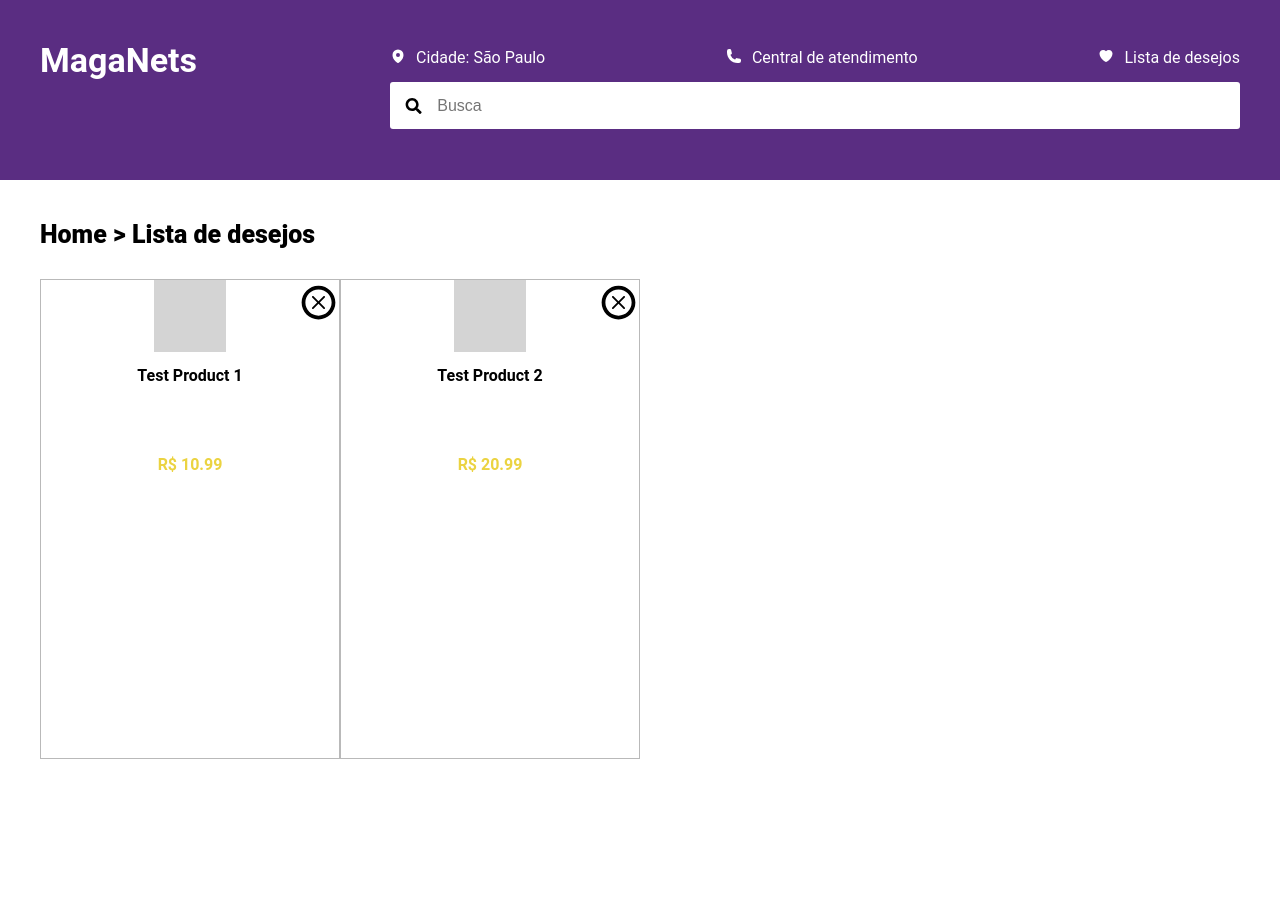
Test: WishlistPage › removes an item from the wishlist when delete button is clicked
Click the 1st icon with test id "delete-button" at coordinates (318, 302), box 296,280 -> 341,325
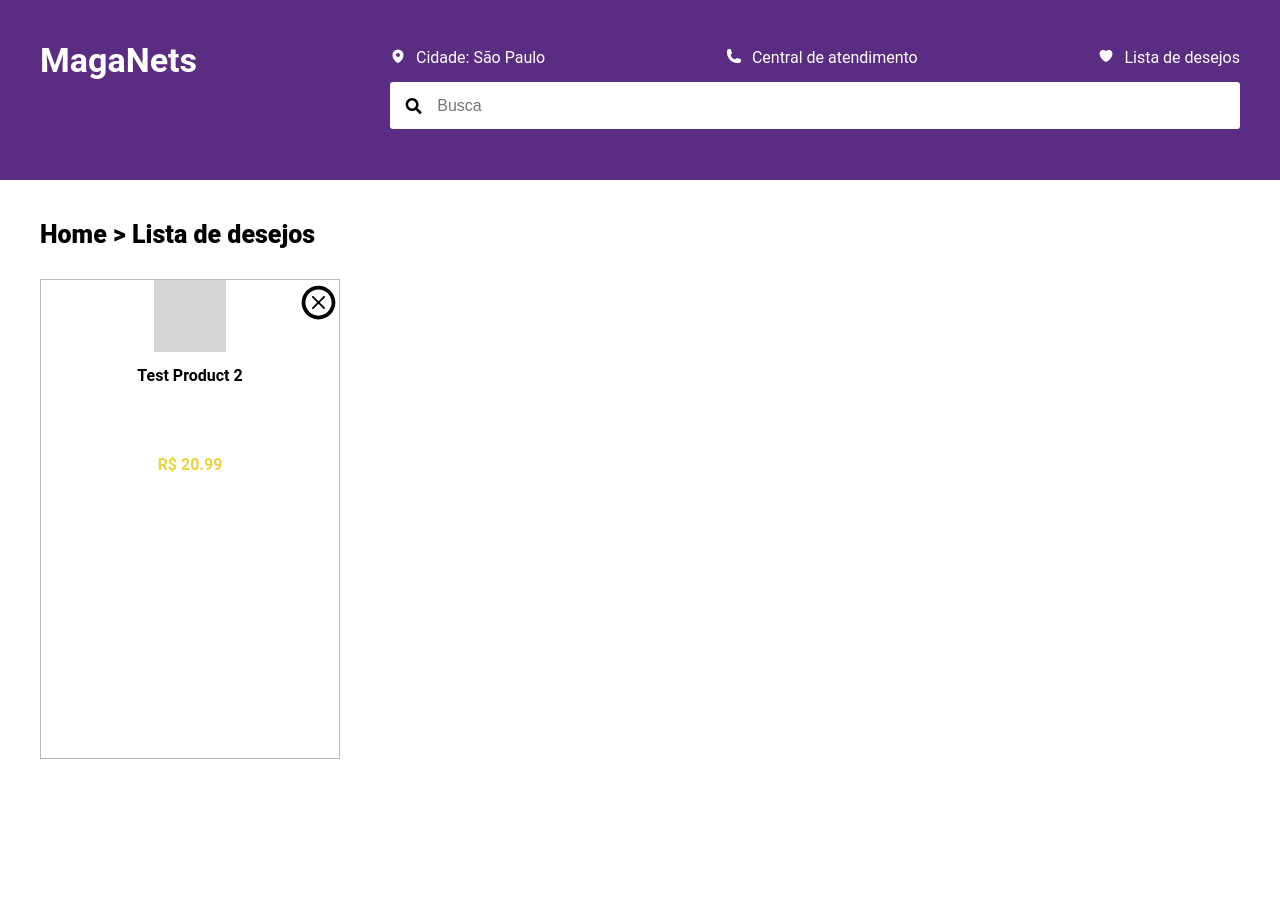
Now the text "Test Product 1" is gone
